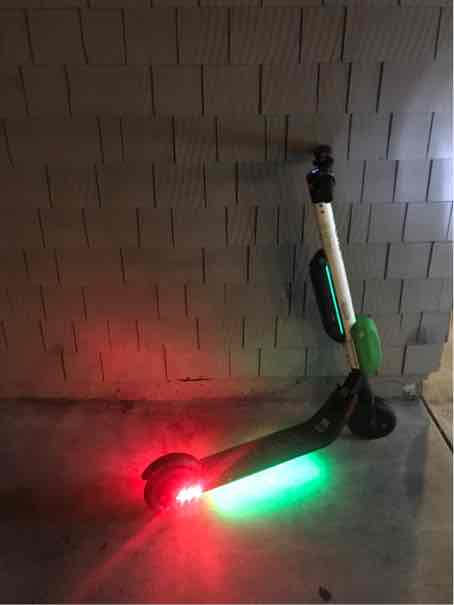scooter: (139, 139, 406, 521)
